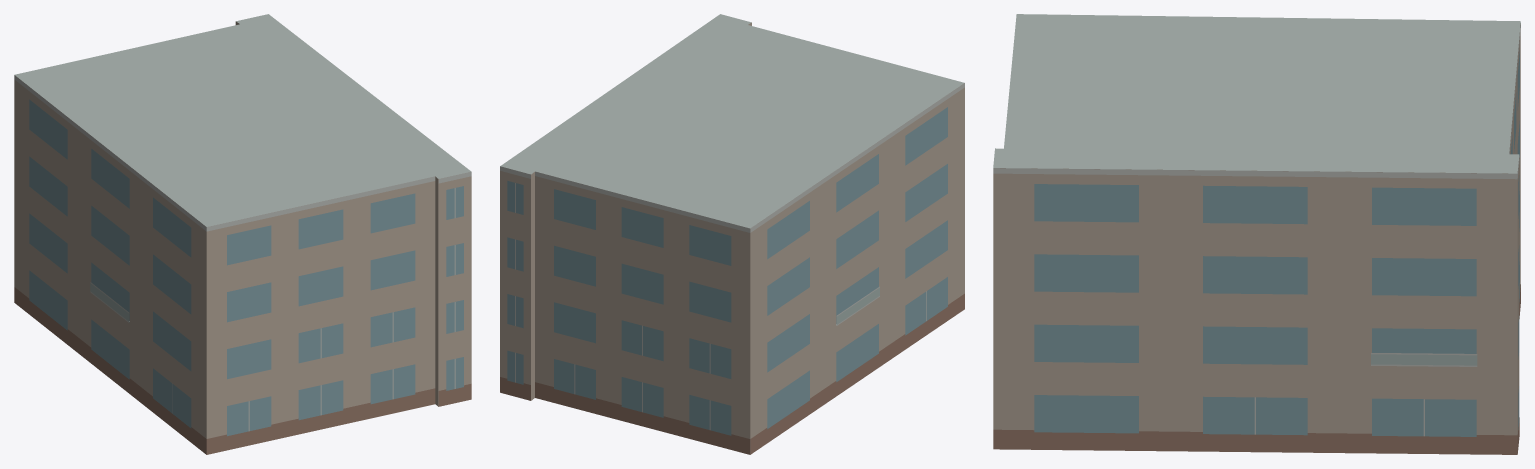
File: survey-upis-32662661.glb
3 renders of one model, left to right at view 1: azimuth 30°, elevation 25°; view 2: azimuth 150°, elevation 25°; view 3: azimuth 270°, elevation 25°, orthographic. The views are drawn at different scales.
Parts seen in each view (by area): view 1: survey-upis-32662661.tmp; view 2: survey-upis-32662661.tmp; view 3: survey-upis-32662661.tmp.
Boxes of the visible parts, <box> form: survey-upis-32662661.tmp: <box>14,14,471,454</box>; survey-upis-32662661.tmp: <box>500,14,964,454</box>; survey-upis-32662661.tmp: <box>993,14,1520,454</box>.
Size of the model in its own units: 14.85 by 12.2 by 20.75.
